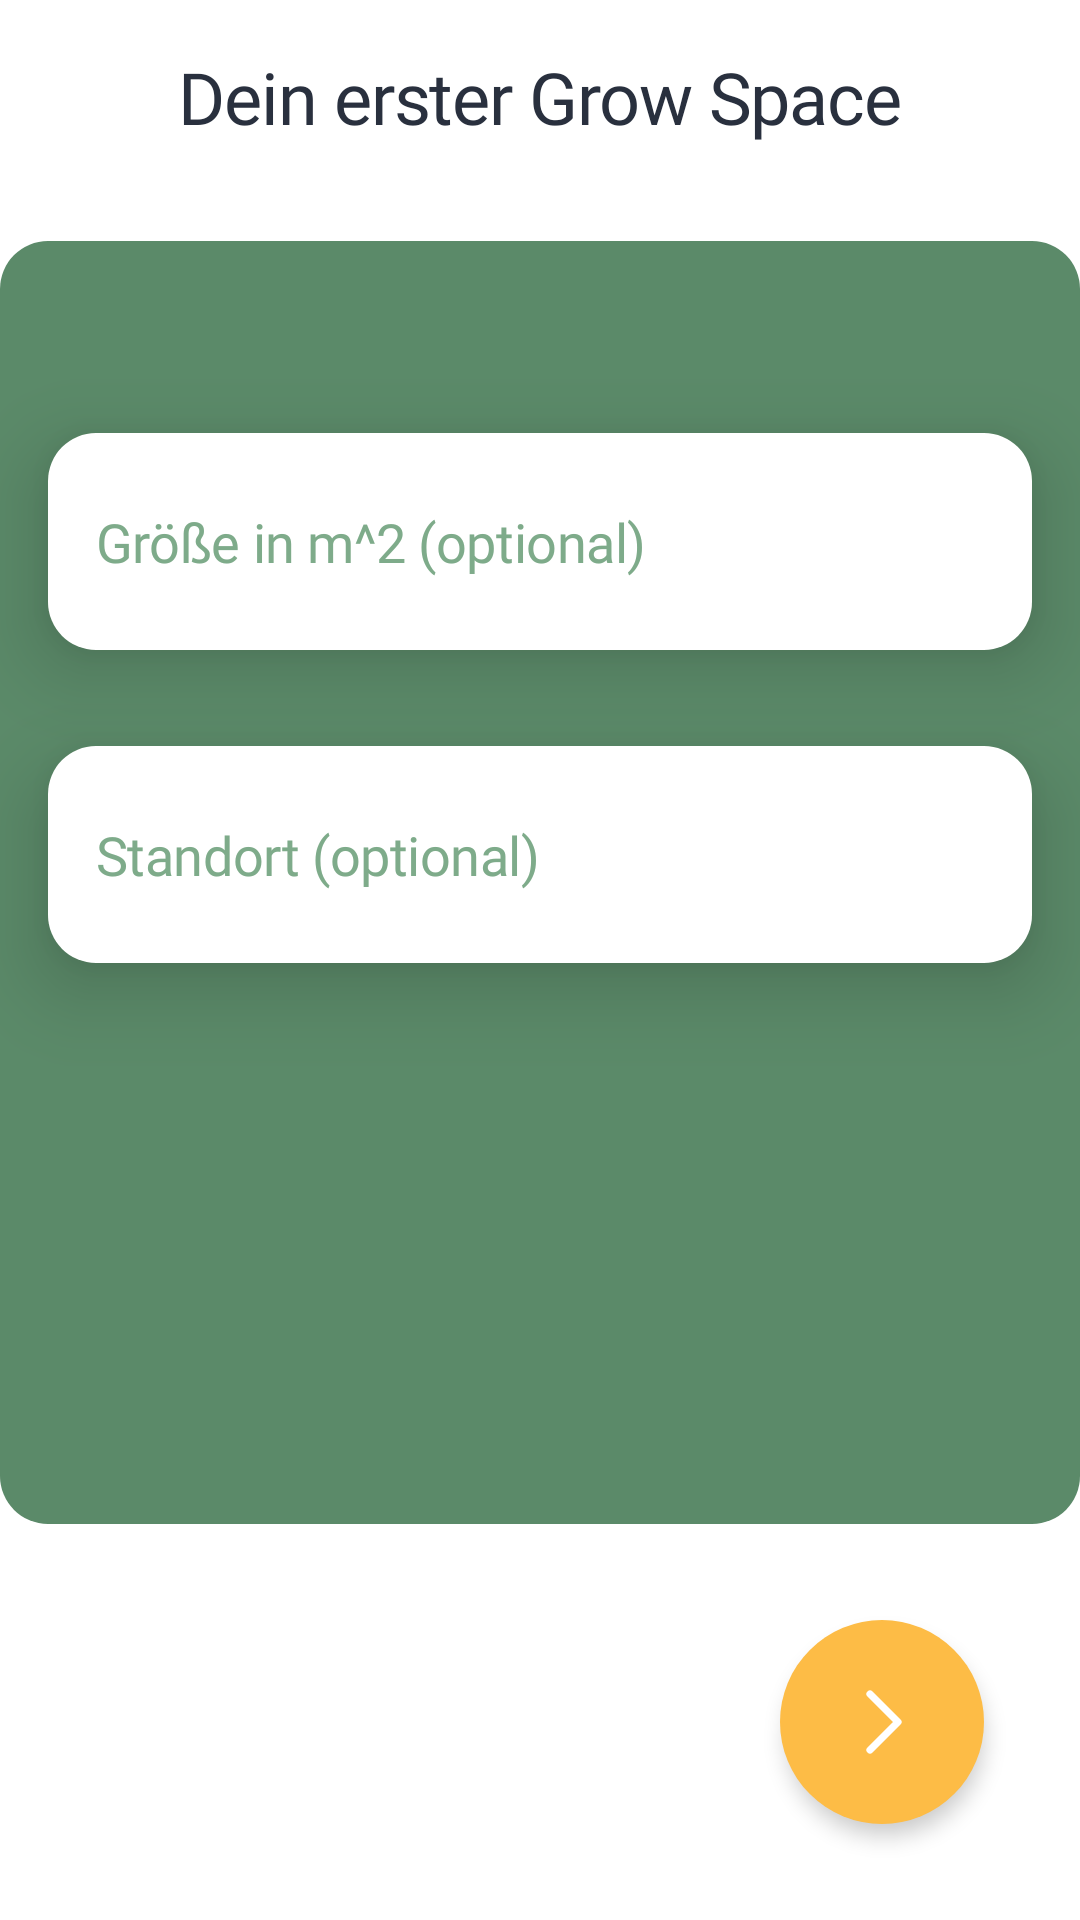

Icon click points for this 1080px×1920px phone screenshot, format [x,y]:
right: [882,1722]
